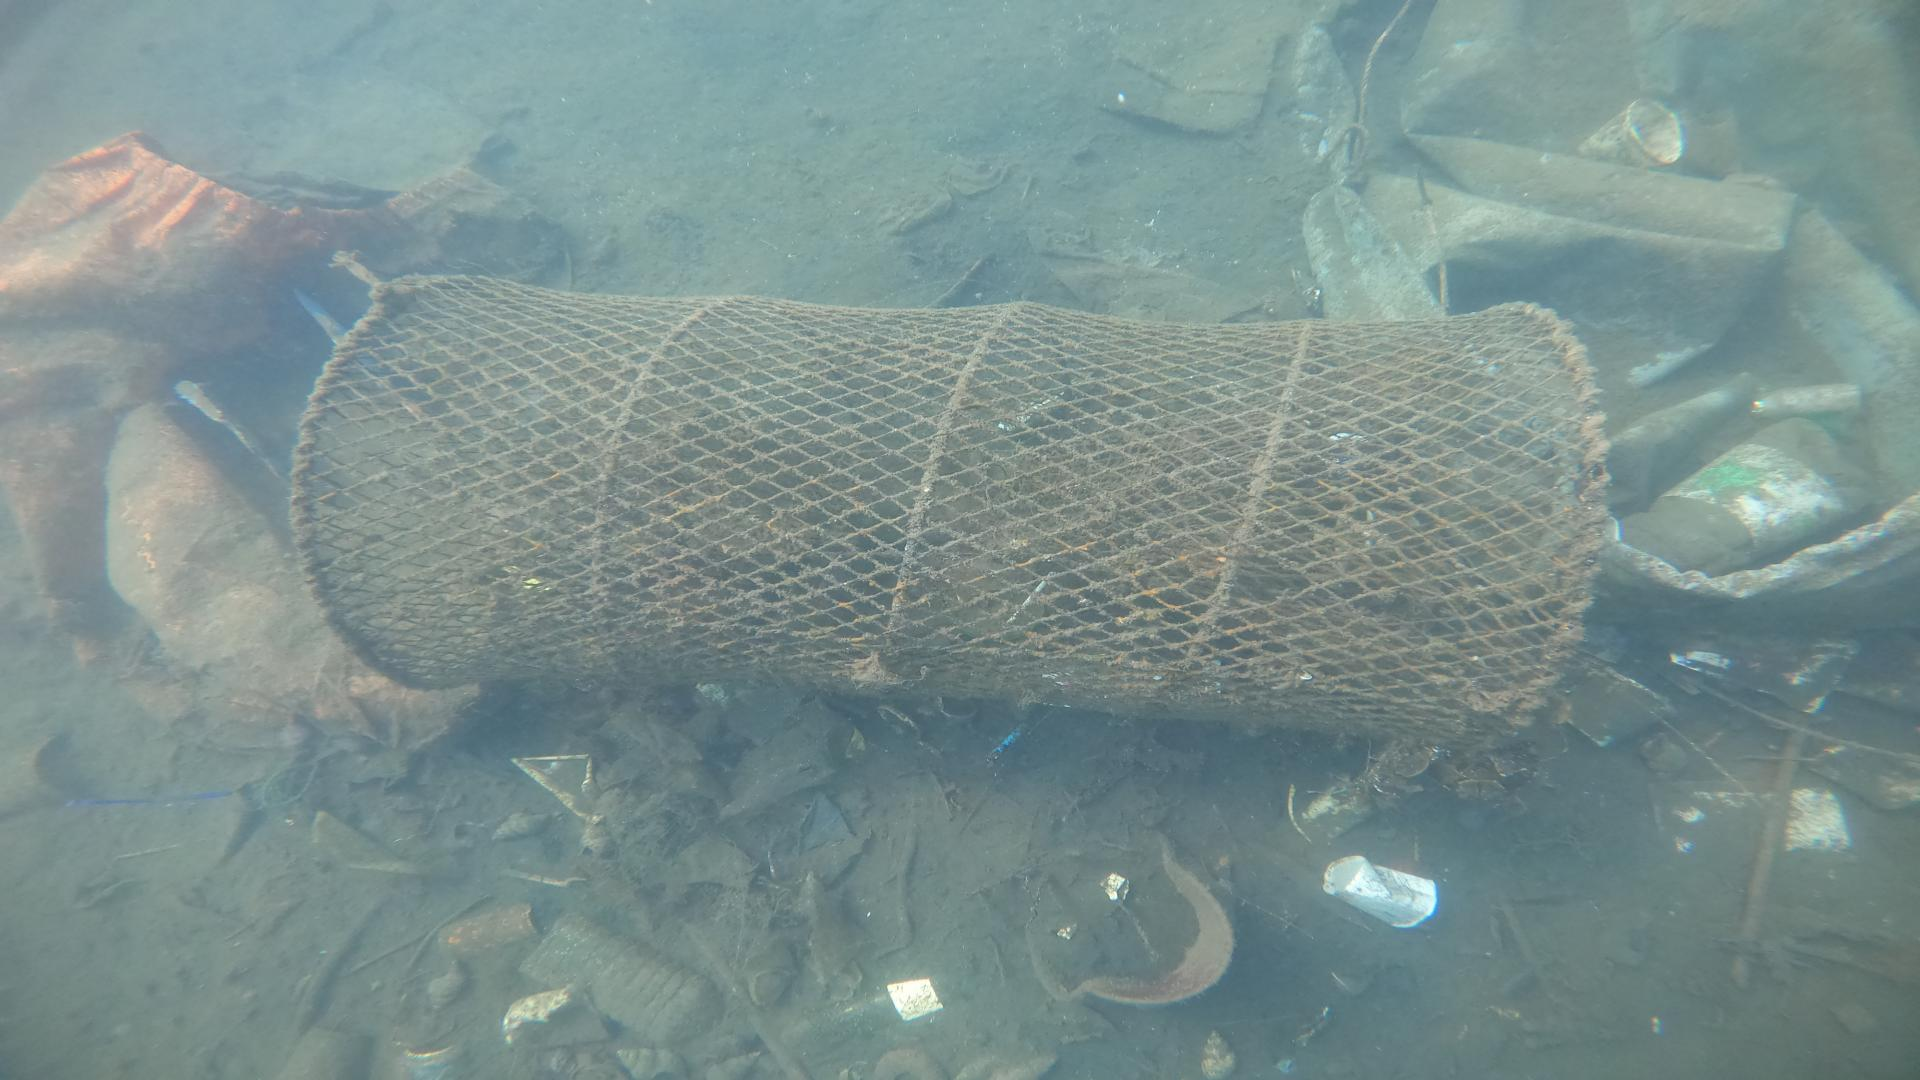spring fish trap: (286, 266, 1622, 753)
